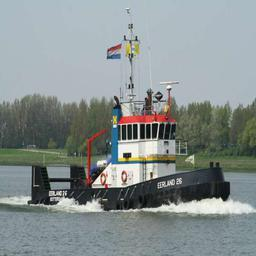Ship: (22, 24, 233, 216)
